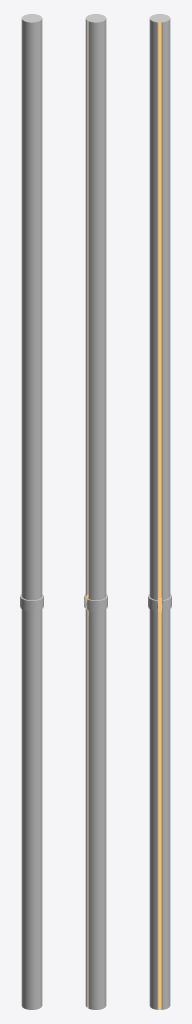
File: PipeMedium03.glb
3 renders of one model, left to right at view 1: azimuth 30°, elevation 25°; view 2: azimuth 210°, elevation 25°; view 3: azimuth 270°, elevation 25°, orthographic.
Visible parts, largest first — view 1: PipeMedium03; view 2: PipeMedium03; view 3: PipeMedium03.
Part boxes in pixels (left/top/right/bottom): PipeMedium03: left=20, top=14, right=43, bottom=1009; PipeMedium03: left=84, top=14, right=107, bottom=1009; PipeMedium03: left=148, top=14, right=171, bottom=1009.
Bounding box in the file's own units: 0.6488 × 29.32 × 0.6403.
